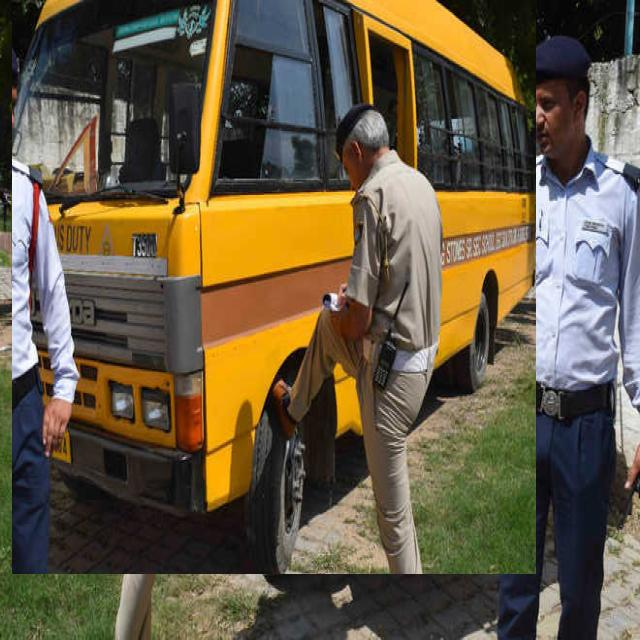bus: (12, 0, 535, 574)
